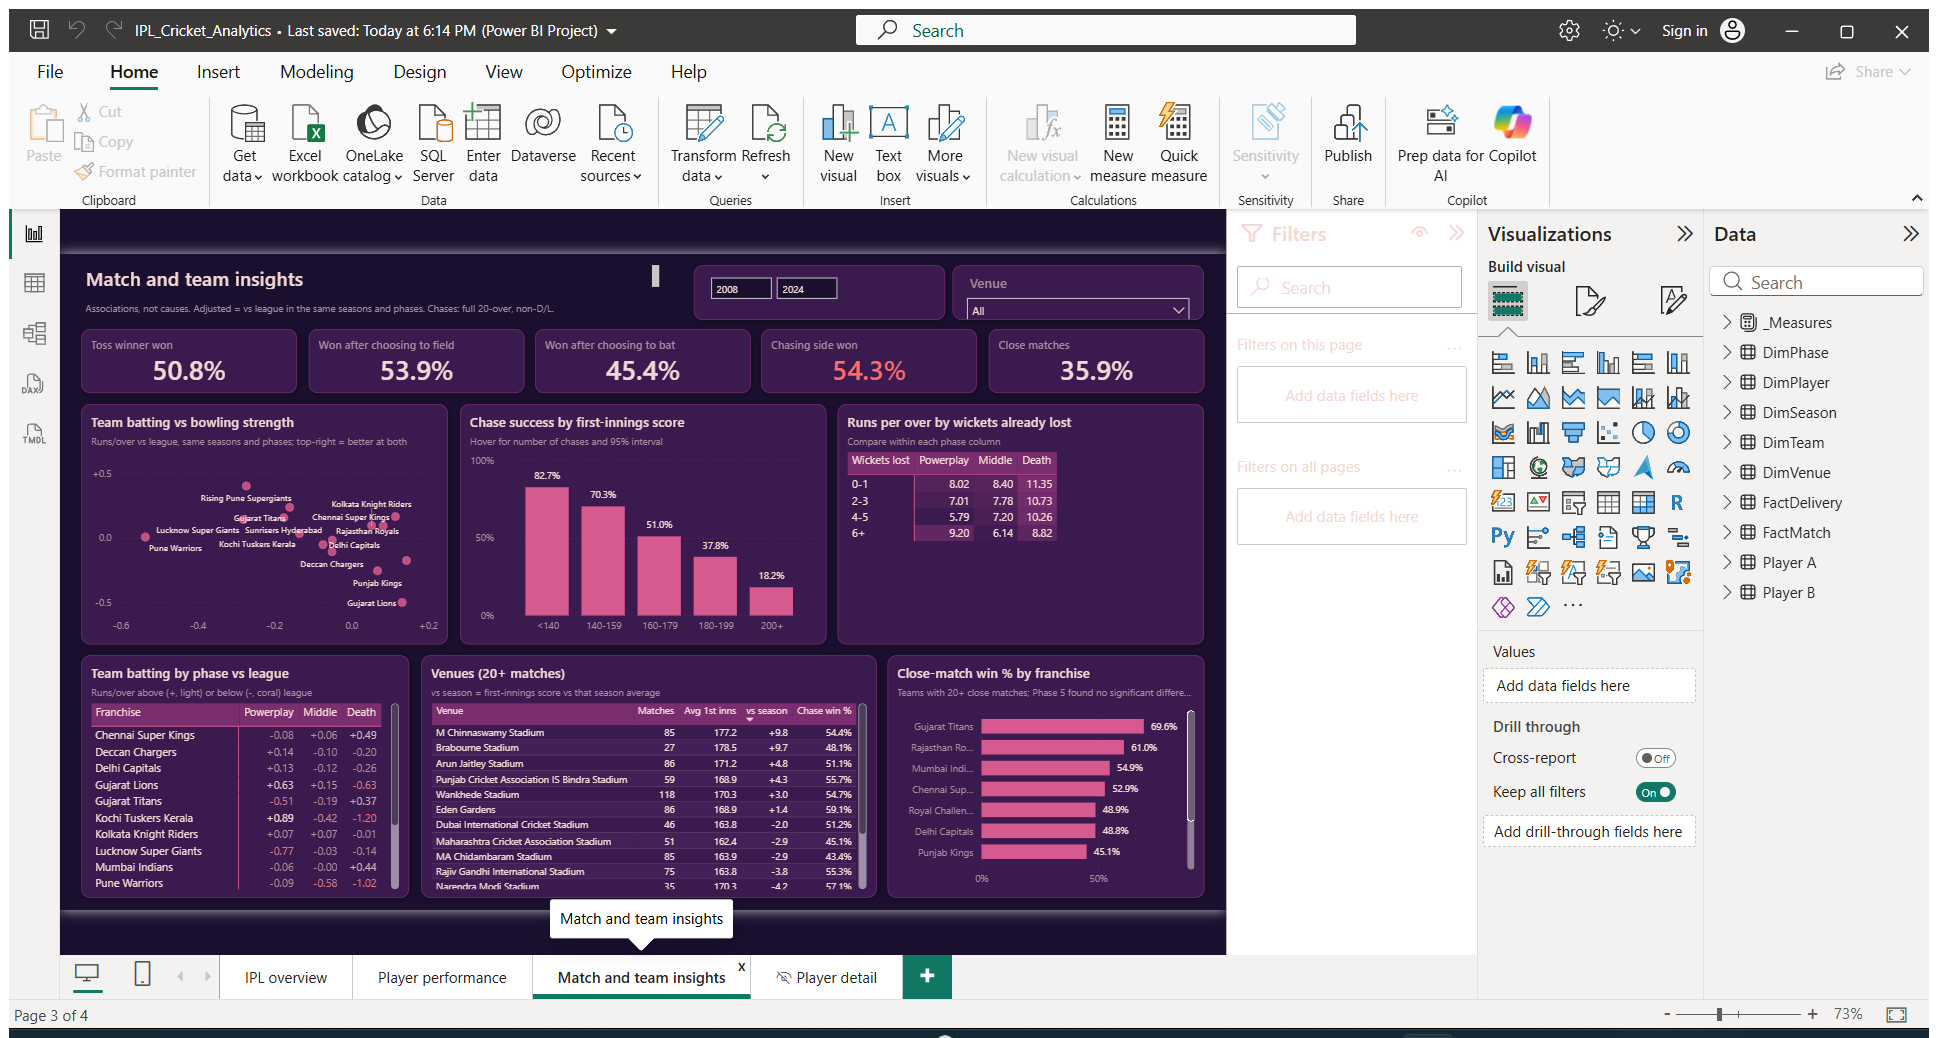

The dashboard page shown, as its layout file describes it:
{"tool":"powerbi","page":{"name":"Match and team insights","canvas":[1280,720],"ordinal":2},"visuals":[{"type":"textbox","box":[18,4,650,42],"z":100},{"type":"textbox","box":[18,42,664,34],"z":200},{"type":"slicer","fields":{"Values":["DimSeason.Season"]},"box":[696,12,276,60],"z":300},{"type":"slicer","fields":{"Values":["DimVenue.Venue"]},"box":[980,12,276,60],"z":400},{"type":"card","title":"Toss winner won","fields":{"Values":["_Measures.Toss Winner Win %"]},"box":[24,82,236.8,70],"z":500},{"type":"card","title":"Won after choosing to field","fields":{"Values":["_Measures.Toss Winner Win % (chose field)"]},"box":[272.8,82,236.8,70],"z":600},{"type":"card","title":"Won after choosing to bat","fields":{"Values":["_Measures.Toss Winner Win % (chose bat)"]},"box":[521.6,82,236.8,70],"z":700},{"type":"card","title":"Chasing side won","fields":{"Values":["_Measures.Chasing Win %"]},"box":[770.4,82,236.8,70],"z":800},{"type":"card","title":"Close matches","fields":{"Values":["_Measures.Close Match %"]},"box":[1019.2,82,236.8,70],"z":900},{"type":"scatterChart","title":"Team batting vs bowling strength","fields":{"Category":["DimTeam.Franchise"],"X":["_Measures.Team Batting vs League"],"Y":["_Measures.Team Runs Saved vs League"]},"box":[24,164,402.7,264],"z":1000},{"type":"clusteredColumnChart","title":"Chase success by first-innings score","fields":{"Category":["FactMatch.First-innings band"],"Y":["_Measures.Chase Success %"]},"box":[438.7,164,402.7,264],"z":1100},{"type":"pivotTable","title":"Runs per over by wickets already lost","fields":{"Rows":["FactDelivery.Wickets lost before ball"],"Columns":["DimPhase.Phase"],"Values":["_Measures.Run Rate"]},"box":[853.3,164,402.7,264],"z":1200},{"type":"pivotTable","title":"Team batting by phase vs league","fields":{"Rows":["DimTeam.Franchise"],"Columns":["DimPhase.Phase"],"Values":["_Measures.Team Batting vs League"]},"box":[24,440,360,266],"z":1300},{"type":"tableEx","title":"Venues (20+ matches)","fields":{"Values":["DimVenue.Venue","_Measures.Venue Full Matches (min 20)","_Measures.Venue Avg First Innings (min 20)","_Measures.Venue vs Season (min 20)","_Measures.Venue Chase Win % (min 20)"]},"box":[396,440,500,266],"z":1400},{"type":"clusteredBarChart","title":"Close-match win % by franchise","fields":{"Category":["DimTeam.Franchise"],"Y":["_Measures.Close Match Win % (min 20)"]},"box":[908,440,348,266],"z":1500}]}

Visuals, with their boxes on the page's 1280x720 design canvas (x1, y1, x2, y2). These are canvas units, not pixel positions in the 1938x1038 screenshot, which may show the page scaled, cropped or inside an application window:
textbox: BBox(18, 4, 668, 46)
textbox: BBox(18, 42, 682, 76)
slicer - DimSeason.Season: BBox(696, 12, 972, 72)
slicer - DimVenue.Venue: BBox(980, 12, 1256, 72)
"Toss winner won" card: BBox(24, 82, 261, 152)
"Won after choosing to field" card: BBox(273, 82, 510, 152)
"Won after choosing to bat" card: BBox(522, 82, 758, 152)
"Chasing side won" card: BBox(770, 82, 1007, 152)
"Close matches" card: BBox(1019, 82, 1256, 152)
"Team batting vs bowling strength" scatterChart: BBox(24, 164, 427, 428)
"Chase success by first-innings score" clusteredColumnChart: BBox(439, 164, 841, 428)
"Runs per over by wickets already lost" pivotTable: BBox(853, 164, 1256, 428)
"Team batting by phase vs league" pivotTable: BBox(24, 440, 384, 706)
"Venues (20+ matches)" tableEx: BBox(396, 440, 896, 706)
"Close-match win % by franchise" clusteredBarChart: BBox(908, 440, 1256, 706)
